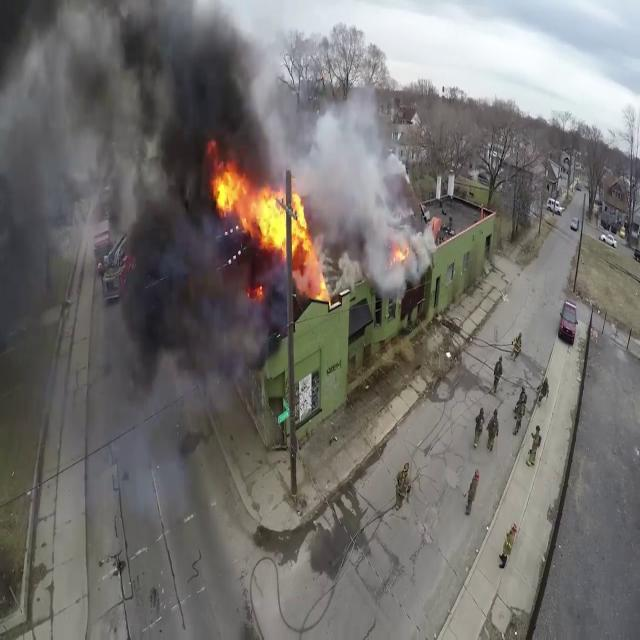Fire: (208, 158, 312, 262)
Smoke: (0, 0, 282, 476), (285, 84, 425, 287)
